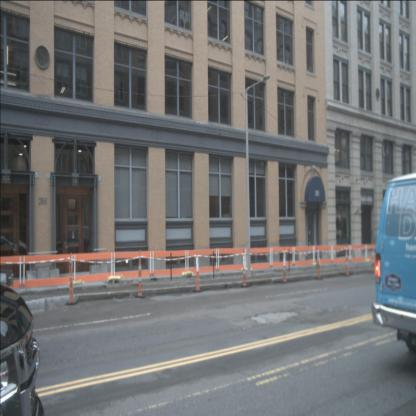movable_object-trafficcone: (65, 253, 78, 305), (135, 249, 146, 298), (193, 247, 202, 293), (240, 246, 248, 288), (342, 245, 352, 277), (280, 246, 288, 283), (370, 241, 376, 274), (316, 252, 323, 280)
vehicle-car: (372, 172, 416, 352)
